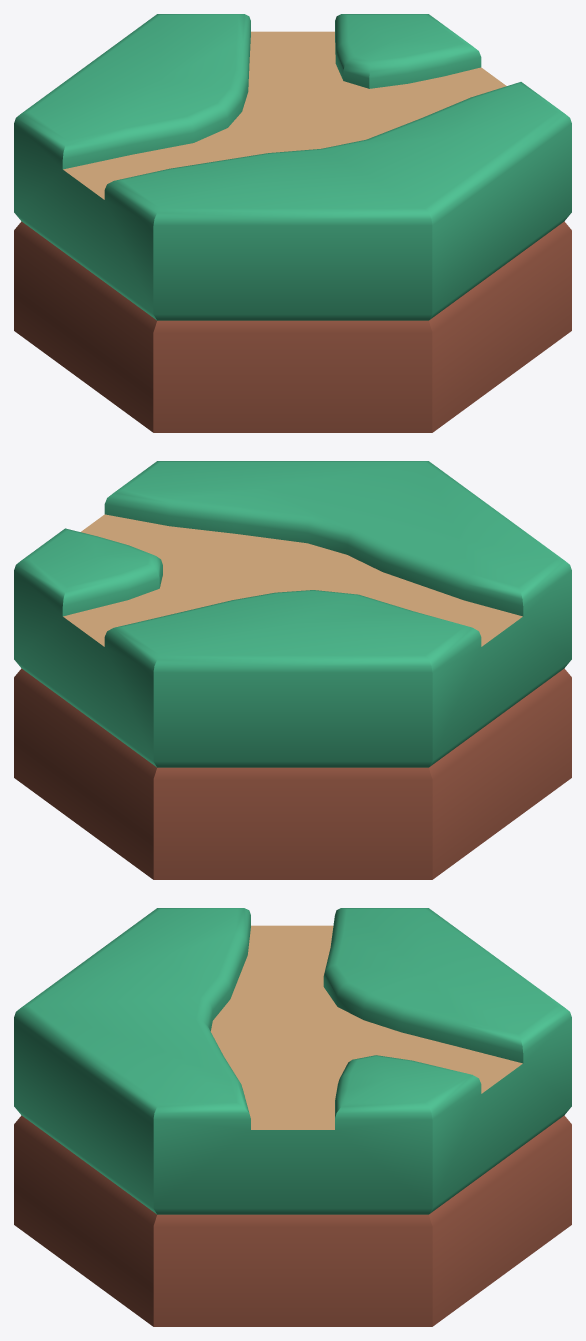
Rendered from hex_forest_roadF_detail.glb.
The picture shows the model from 3 angles, top to bottom: view 1: azimuth 30°, elevation 25°; view 2: azimuth 150°, elevation 25°; view 3: azimuth 270°, elevation 25°; orthographic projection.
Parts seen in each view (by area): view 1: hex_forest_roadF_detail; view 2: hex_forest_roadF_detail; view 3: hex_forest_roadF_detail.
Boxes of the visible parts, <box> form: hex_forest_roadF_detail: <box>14,14,571,432</box>; hex_forest_roadF_detail: <box>14,461,571,879</box>; hex_forest_roadF_detail: <box>14,908,571,1326</box>.
Bounding box in the file's own units: 2 × 1 × 2.31.
